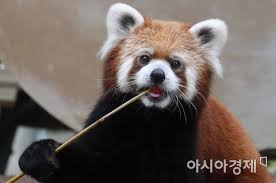redPanda: (74, 11, 235, 130)
